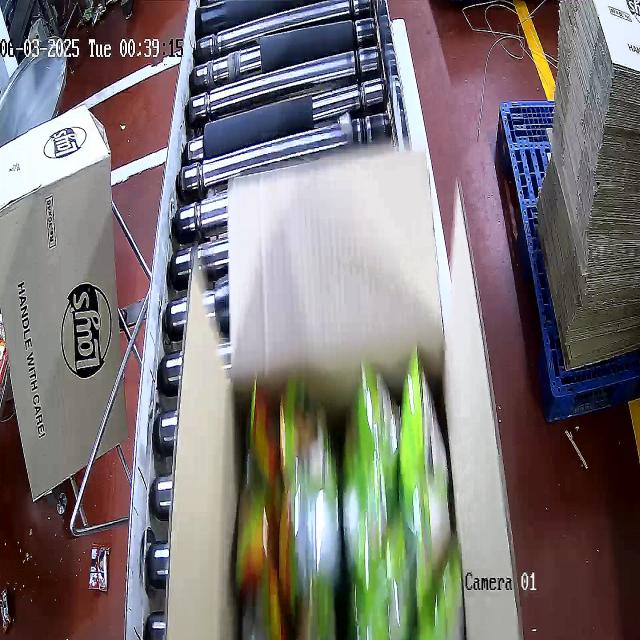YOGURT_HERB: (229, 387, 463, 640)
